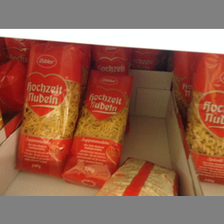pasta: (14, 41, 81, 178), (64, 68, 134, 186), (94, 156, 181, 195)
